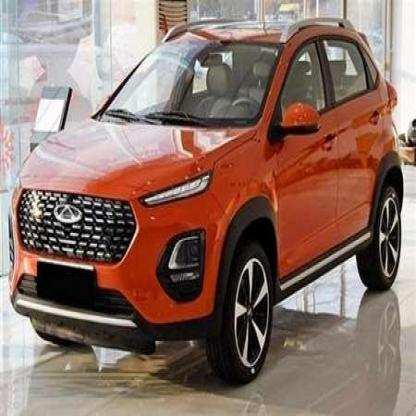Car: (0, 17, 407, 372)
